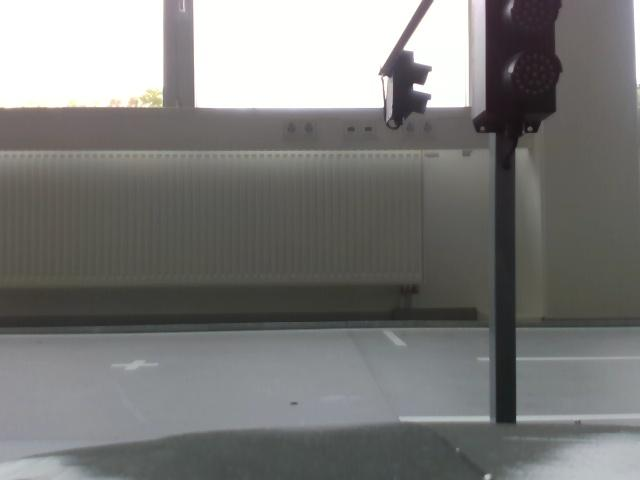traffic light: (468, 1, 563, 135), (378, 52, 436, 126)
